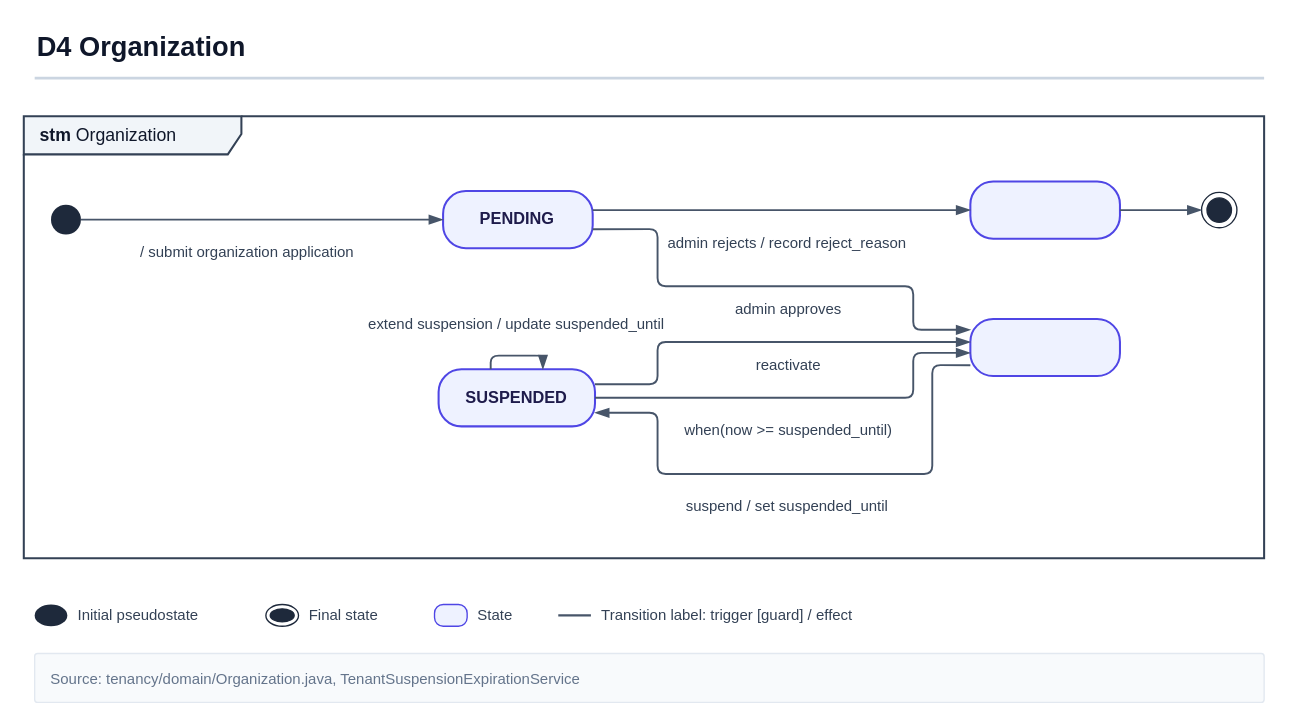
The diagram is 1289 pixels wide and 726 high, and some of its shapes have lost their labels. Each missing label, with the centre of its shape:
ACTIVE: the point at 1044,346
REJECTED: the point at 1044,209
